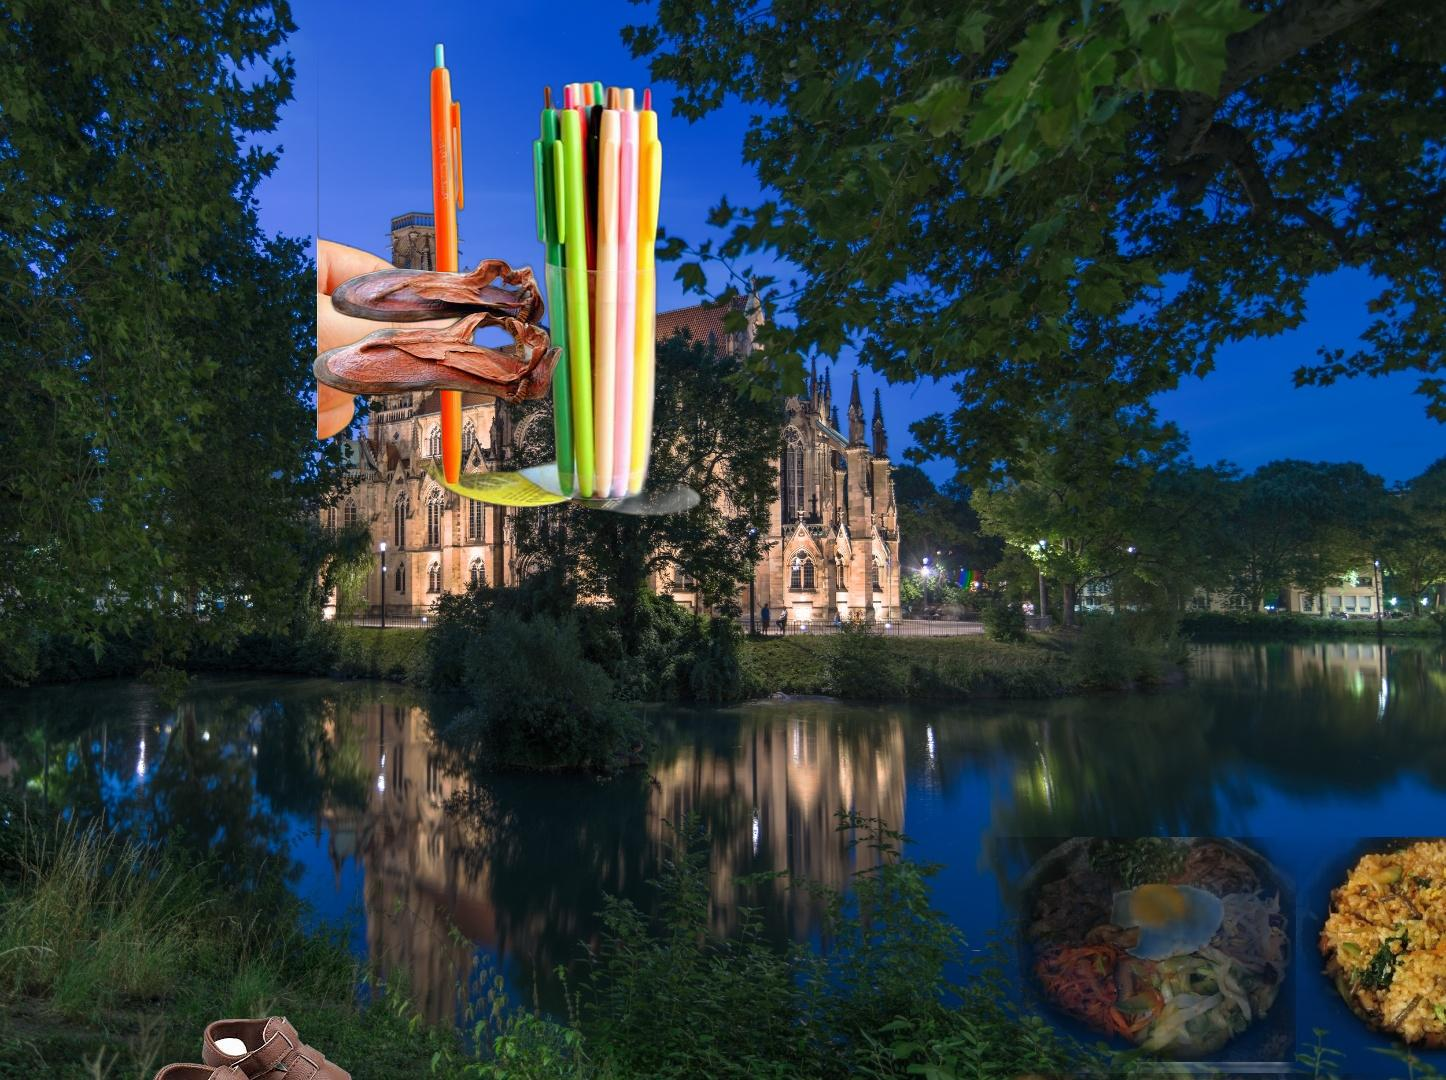biological: (996, 837, 1446, 1080)
penholder: (318, 25, 718, 524)
shoes: (310, 255, 566, 408), (139, 1013, 372, 1080)
